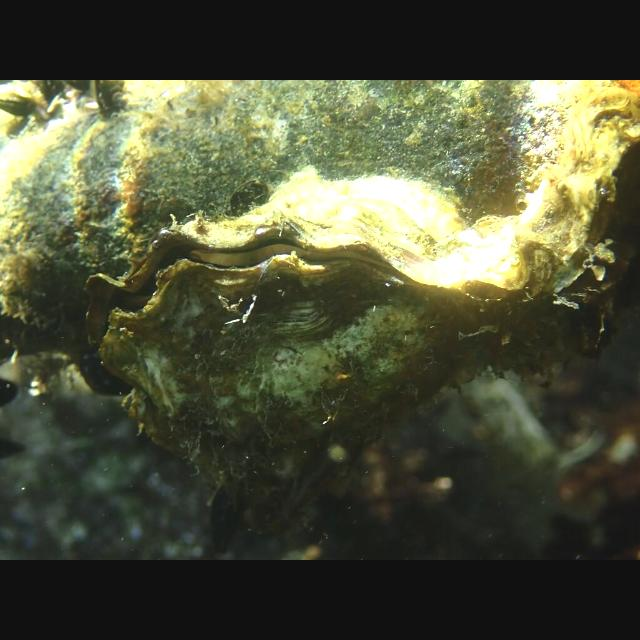Oyster-Open: (82, 164, 538, 483)
